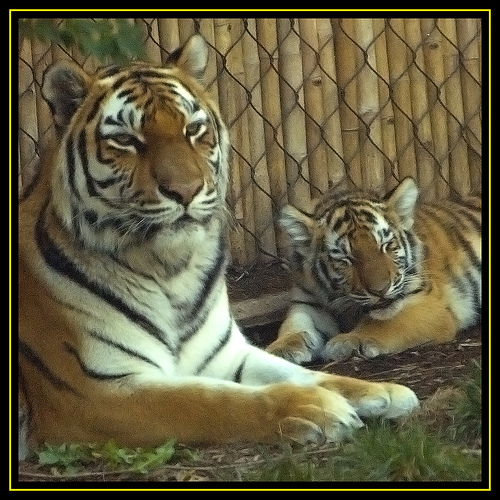Tigre: (32, 50, 278, 430), (269, 182, 470, 365)
